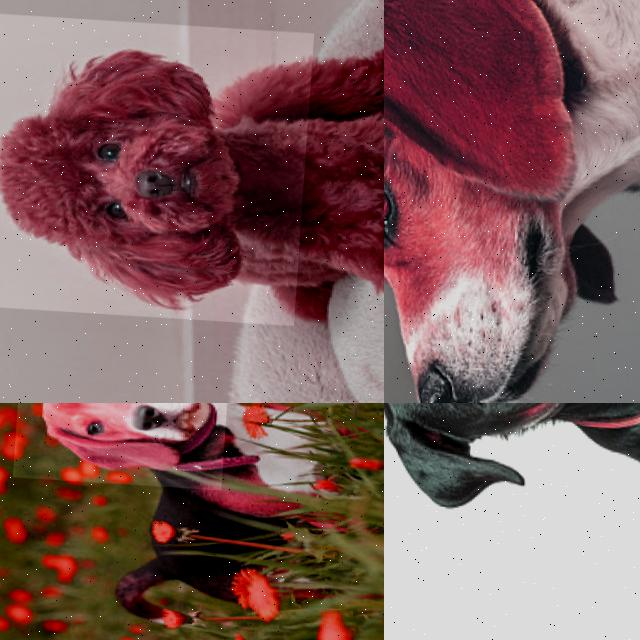beagle: (384, 0, 640, 403), (11, 403, 231, 491)
poodle: (0, 9, 313, 327)
rottweiler: (384, 403, 640, 525)
